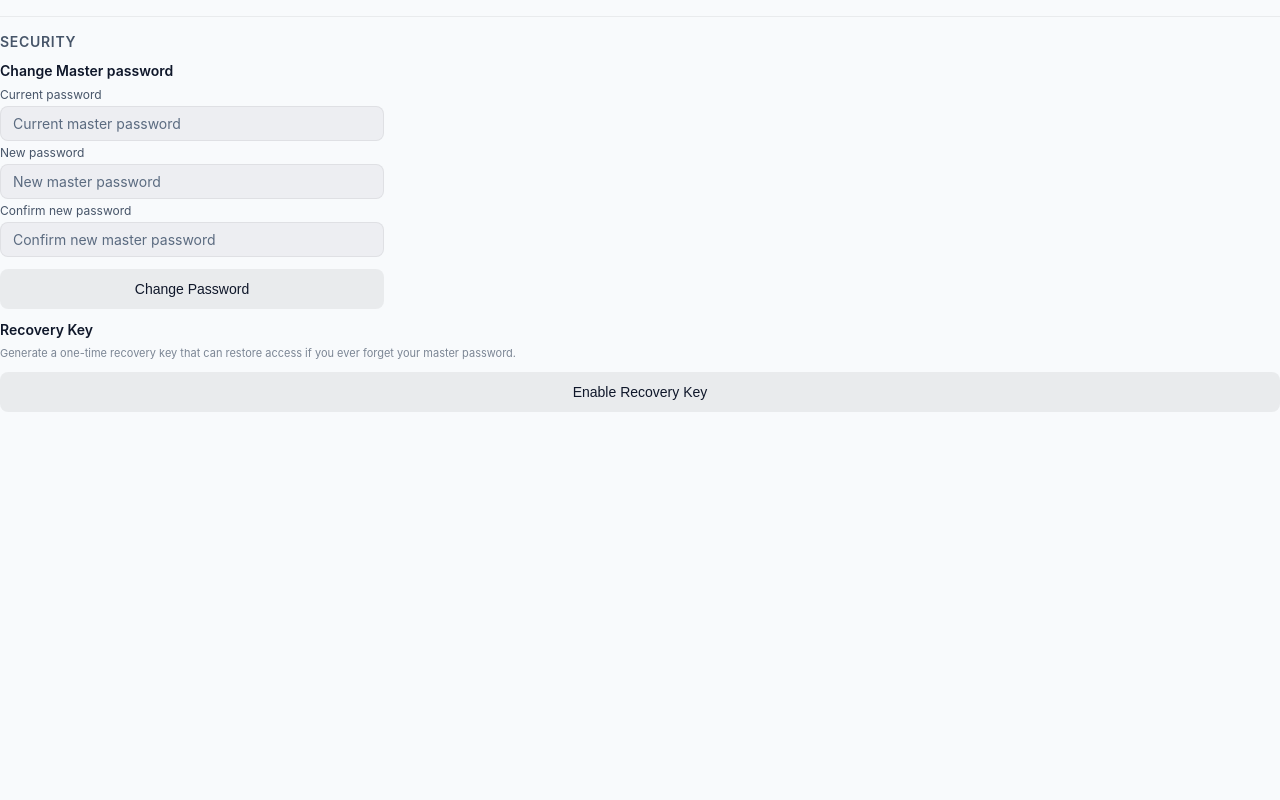
Test: SecuritySettingsSection recovery key › shows the one-time key in a dialog closable only after acknowledgement
Click the button "Enable Recovery Key" at x=640, y=392, box [0,372,1279,412]
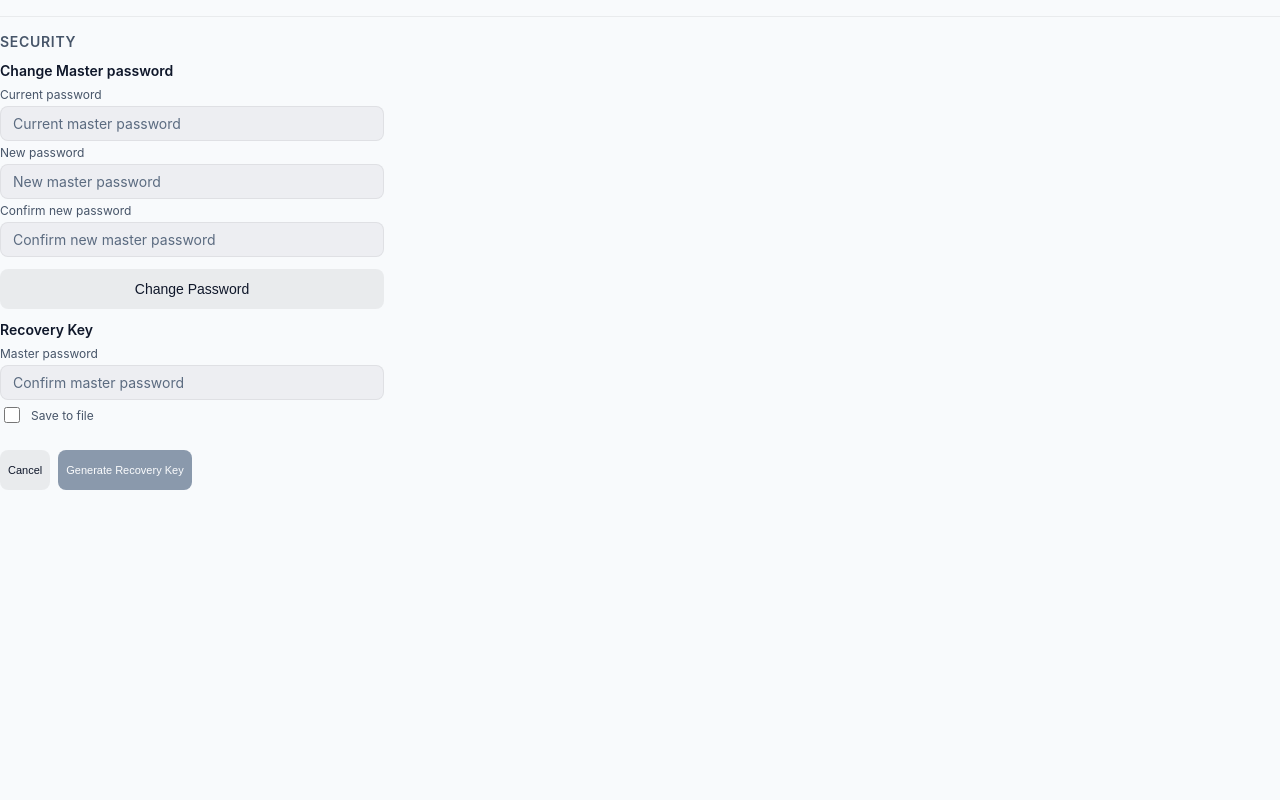
Type "master-password" into the password field labelled "Master password" at x=192, y=382, box [0,365,384,400]
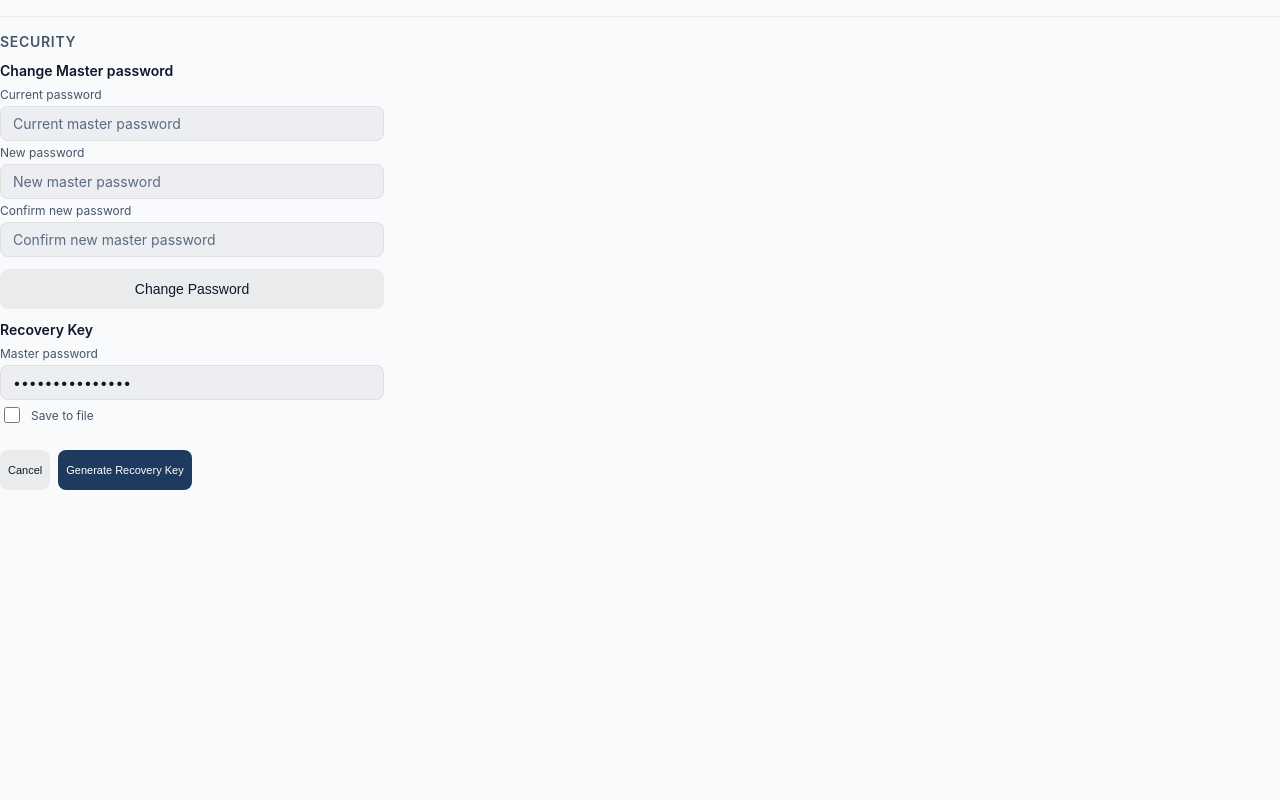
Click the button "Generate Recovery Key" at x=125, y=470, box [58,450,192,490]
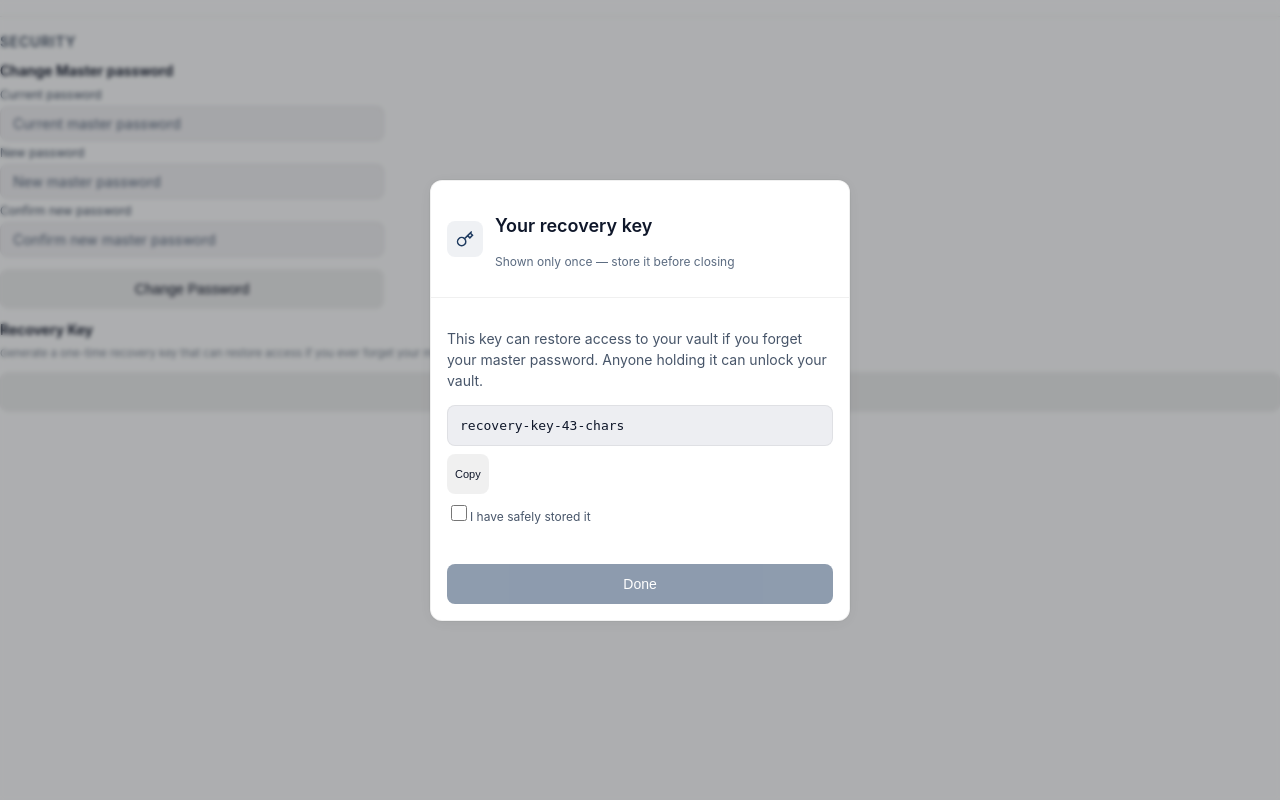
Expected: the text "recovery-key-43-chars" is shown, [447,404,833,446]
Expected: the button "Done" is disabled, [447,564,833,604]
Click the checkbox labelled "I have safely stored it" at x=459, y=512, box [451,504,467,520]
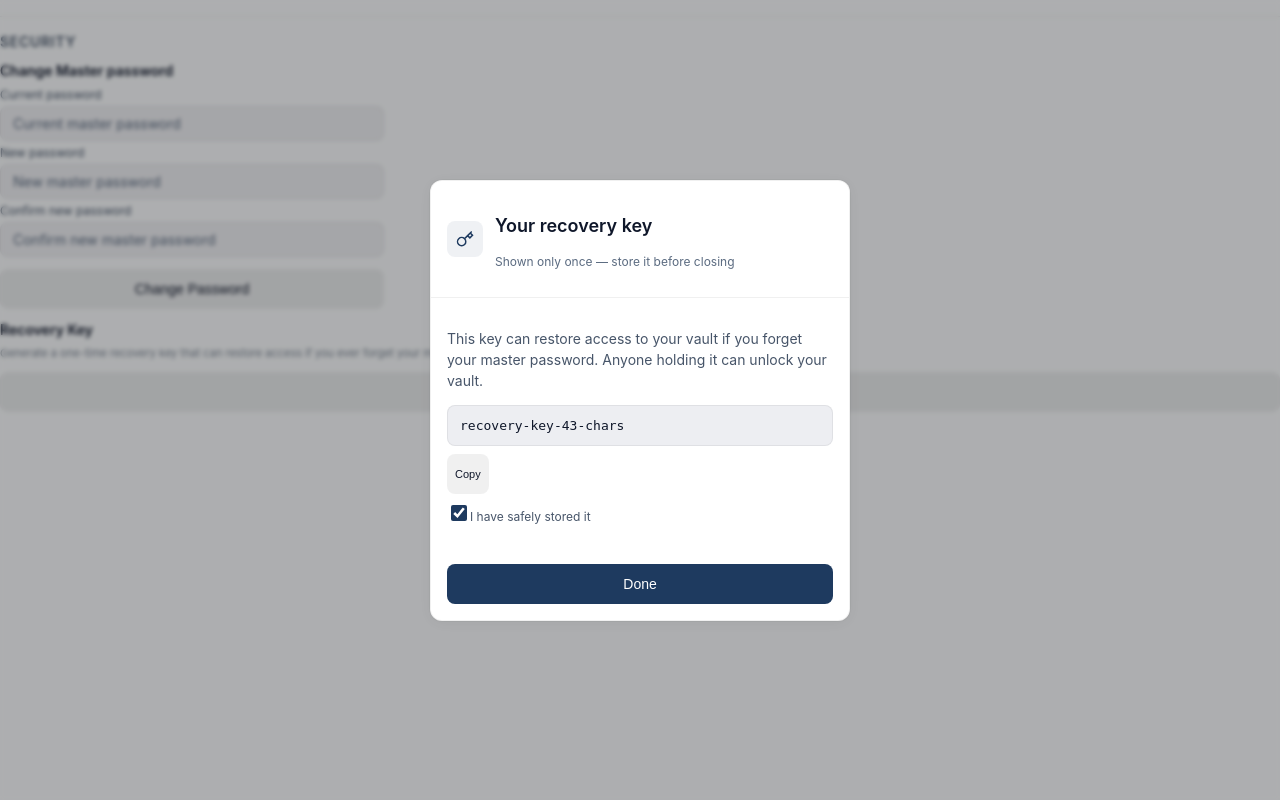
Expected: the button "Done" is enabled
Click the button "Done" at x=640, y=584, box [447,564,833,604]
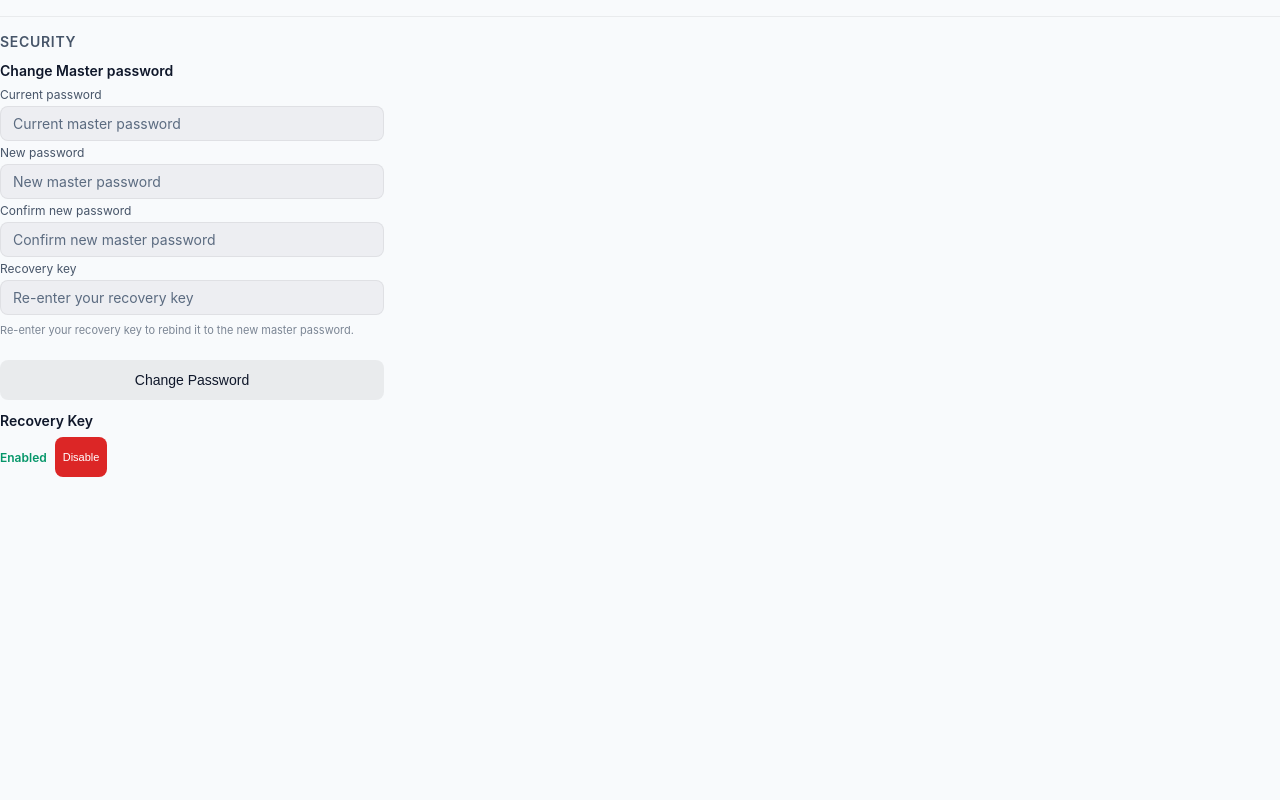
Expected: the text "recovery-key-43-chars" is gone
Expected: the text "Enabled" is shown, [0,450,47,464]
